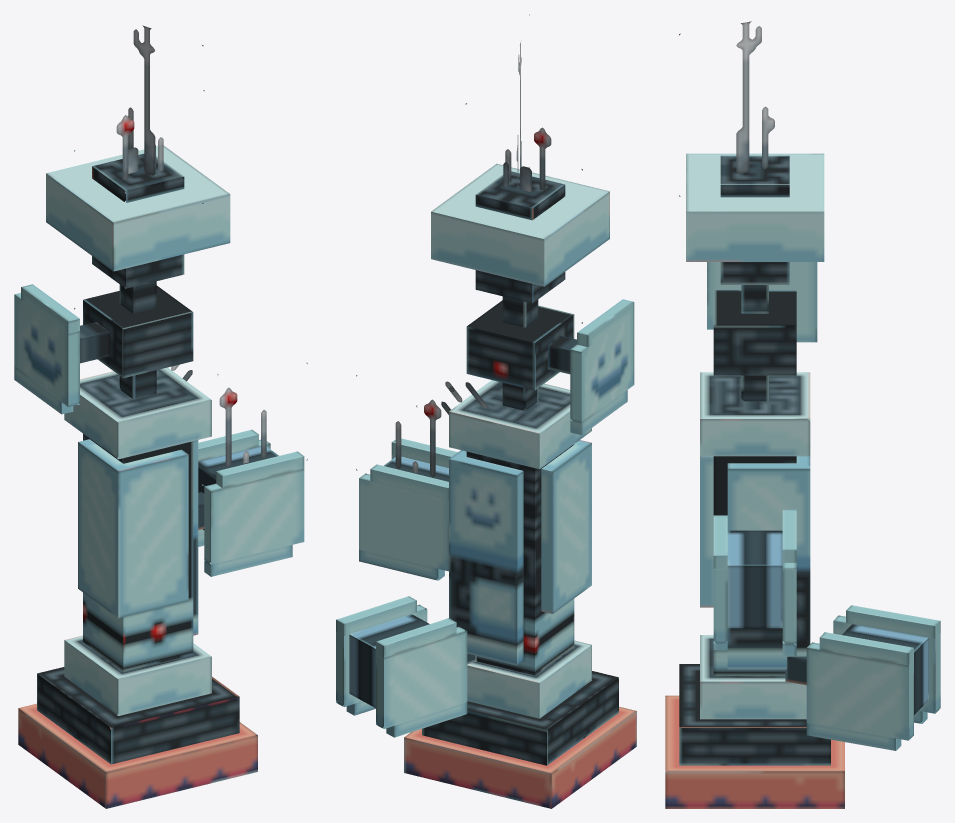
Rendered from torresitaAa.fbx.
3 renders of one model, left to right at view 1: azimuth 30°, elevation 25°; view 2: azimuth 150°, elevation 25°; view 3: azimuth 270°, elevation 25°, orthographic. The views are drawn at different scales.
Visible parts, largest first — view 1: cube; view 2: cube; view 3: cube.
Part boxes in pixels (left/top/right/bottom): cube: left=14, top=25, right=307, bottom=808; cube: left=336, top=14, right=636, bottom=808; cube: left=665, top=21, right=940, bottom=808.
Size of the model in its own units: 1.41 by 3.75 by 1.25.
1 material, 1 textured.
